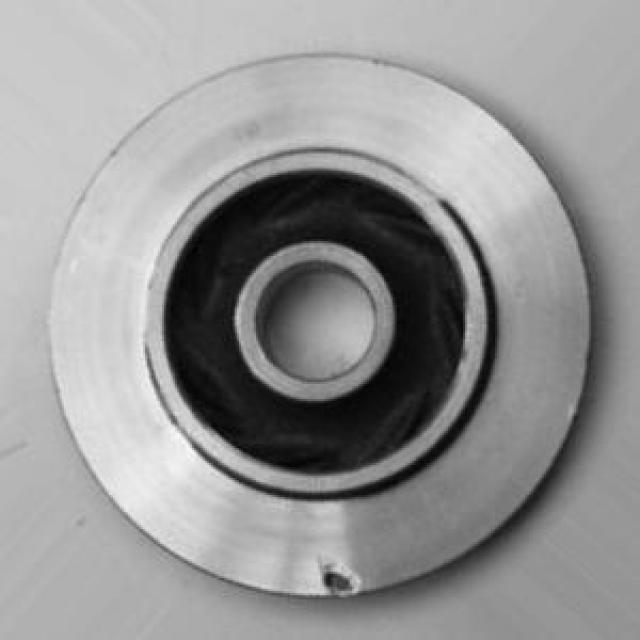Defect: (317, 562, 355, 600)
